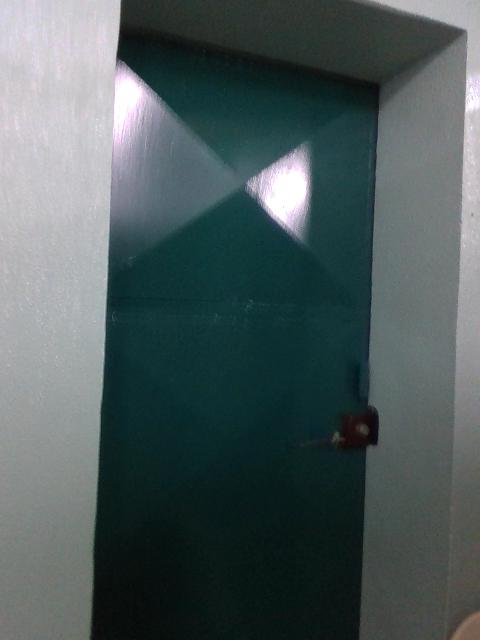door: (95, 30, 379, 640)
